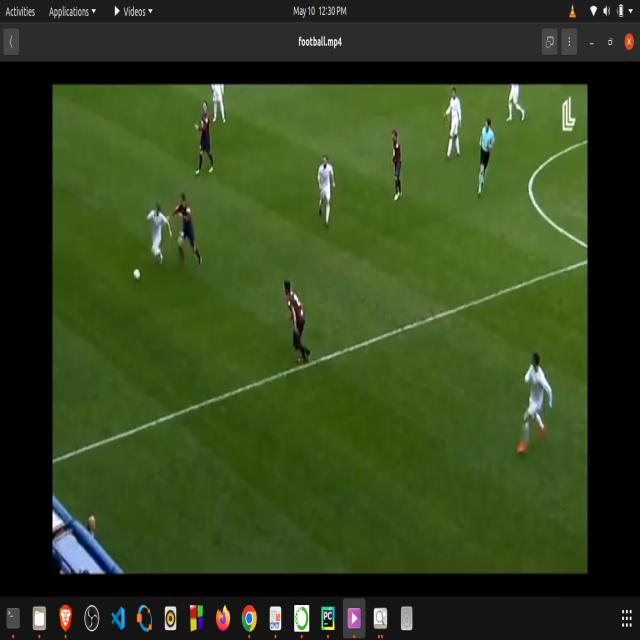Ball: (132, 264, 142, 286)
football-players: (514, 344, 554, 471), (276, 276, 321, 372), (172, 188, 210, 277), (193, 96, 220, 183), (143, 197, 173, 275), (441, 85, 468, 162), (315, 150, 338, 234), (476, 114, 497, 198), (390, 126, 408, 204), (506, 84, 527, 127), (211, 84, 228, 125)
